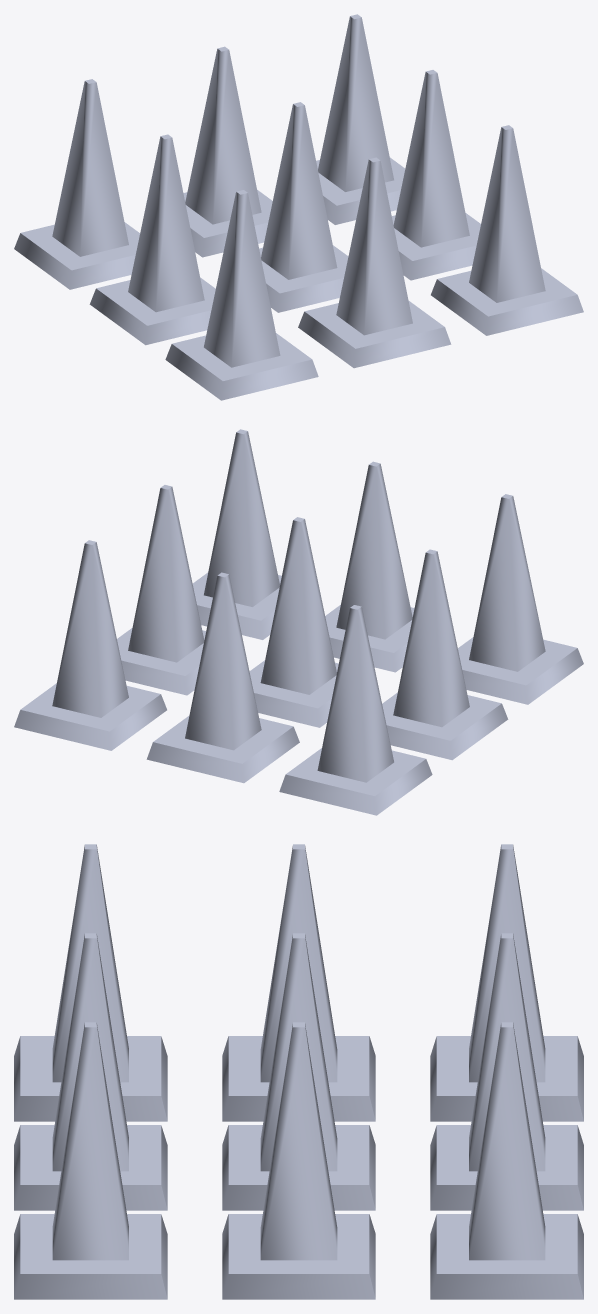
The model's file is spikesLarge.fbx.
3 renders of one model, top to bottom at view 1: azimuth 30°, elevation 25°; view 2: azimuth 150°, elevation 25°; view 3: azimuth 270°, elevation 25°, orthographic. The views are drawn at different scales.
Parts seen in each view (by area): view 1: spikesLarge; view 2: spikesLarge; view 3: spikesLarge.
Part boxes in pixels (x1=…): spikesLarge: x1=14, y1=14, x2=583, y2=400; spikesLarge: x1=14, y1=429, x2=583, y2=815; spikesLarge: x1=14, y1=844, x2=583, y2=1299.
Bounding box in the file's own units: 5.81 × 2.7 × 5.75.
